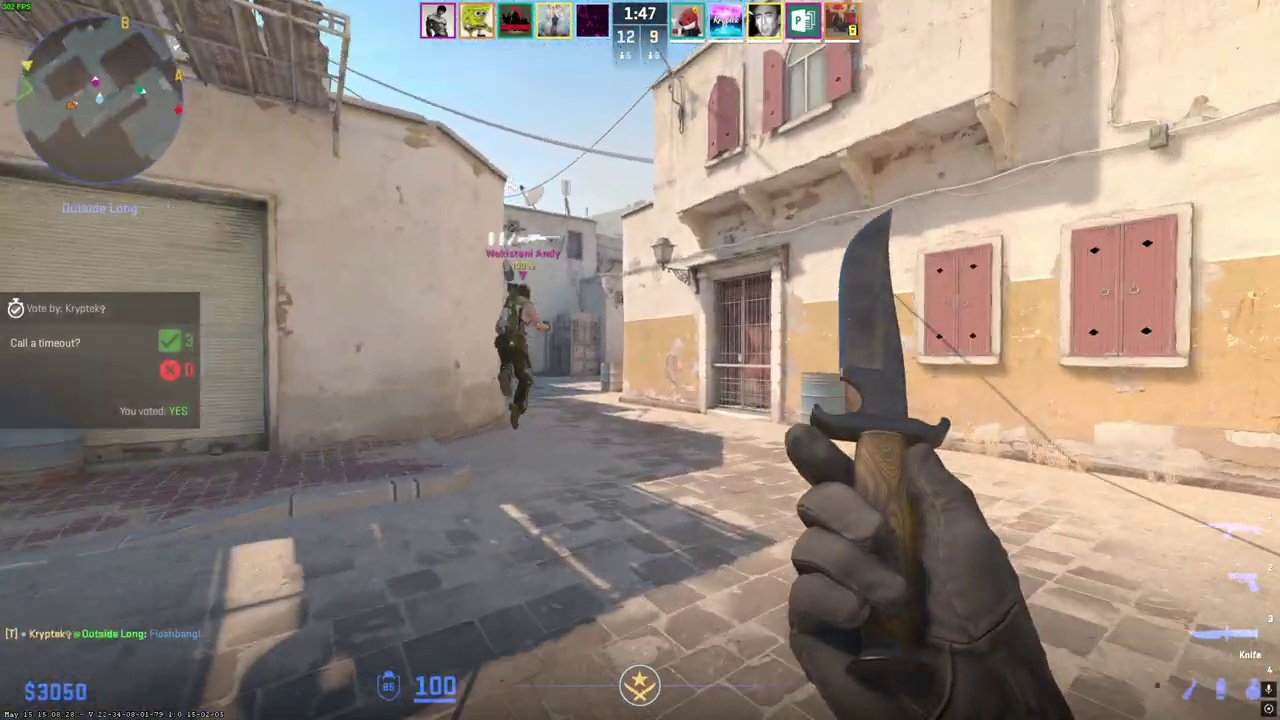Terrorist: (494, 283, 546, 429)
